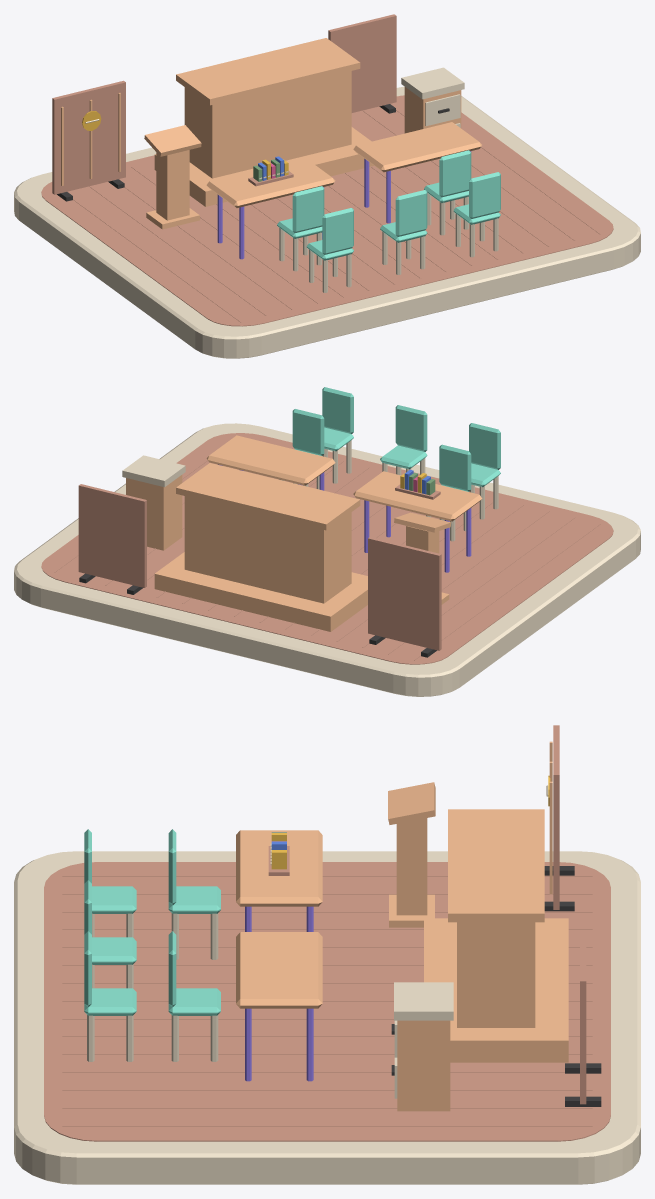
The model's file is room.fbx.
The picture shows the model from 3 angles, top to bottom: view 1: azimuth 30°, elevation 25°; view 2: azimuth 150°, elevation 25°; view 3: azimuth 270°, elevation 25°; orthographic projection. The views are drawn at different scales.
Parts seen in each view (by area): view 1: COM-02 Floor Surface, COM-01 Rounded Base Direct, Bench, Panel, Top, Panel.001, Rounded table top.001, Rounded table top, Platform, Body, Backrest.003, Backrest (+8 smaller); view 2: COM-02 Floor Surface, COM-01 Rounded Base Direct, Bench, Panel, Platform, Top, Panel.001, Rounded table top.001, Rounded table top, Body.001, Backrest, Backrest.001 (+9 smaller); view 3: COM-02 Floor Surface, COM-01 Rounded Base Direct, Top, Platform, Bench, Rounded table top.001, Rounded table top, Body.001, Body, Top.001, Reading top, Seat.001 (+12 smaller).
Boxes of the visible parts, left/top/right/bottom form: COM-02 Floor Surface: left=41, top=95, right=613, bottom=326; COM-01 Rounded Base Direct: left=14, top=86, right=640, bottom=358; Bench: left=184, top=71, right=351, bottom=178; Panel: left=52, top=80, right=125, bottom=194; Top: left=176, top=38, right=360, bottom=105; Panel.001: left=328, top=14, right=396, bottom=112; Rounded table top.001: left=353, top=122, right=481, bottom=172; Rounded table top: left=206, top=158, right=335, bottom=207; Platform: left=154, top=127, right=373, bottom=206; Body: left=156, top=150, right=189, bottom=220; Backrest.003: left=395, top=190, right=427, bottom=236; Backrest: left=292, top=186, right=324, bottom=232; COM-02 Floor Surface: left=41, top=433, right=613, bottom=664; COM-01 Rounded Base Direct: left=14, top=423, right=640, bottom=696; Bench: left=184, top=496, right=351, bottom=603; Panel: left=368, top=537, right=441, bottom=650; Platform: left=154, top=552, right=367, bottom=631; Top: left=176, top=463, right=360, bottom=530; Panel.001: left=78, top=484, right=146, bottom=587; Rounded table top.001: left=206, top=435, right=335, bottom=485; Rounded table top: left=353, top=471, right=482, bottom=521; Body.001: left=126, top=475, right=182, bottom=550; Backrest: left=439, top=444, right=471, bottom=491; Backrest.001: left=292, top=409, right=324, bottom=455; COM-02 Floor Surface: left=44, top=862, right=610, bottom=1141; COM-01 Rounded Base Direct: left=14, top=851, right=640, bottom=1184; Top: left=448, top=809, right=544, bottom=922; Platform: left=424, top=918, right=568, bottom=1062; Bench: left=457, top=922, right=535, bottom=1027; Rounded table top.001: left=236, top=932, right=322, bottom=1008; Rounded table top: left=236, top=830, right=322, bottom=906; Body.001: left=397, top=1020, right=450, bottom=1111; Body: left=396, top=818, right=427, bottom=915; Top.001: left=394, top=982, right=453, bottom=1020; Reading top: left=388, top=782, right=435, bottom=824; Seat.001: left=168, top=988, right=220, bottom=1015.
Size of the model in its own units: 600 by 159 by 520.
